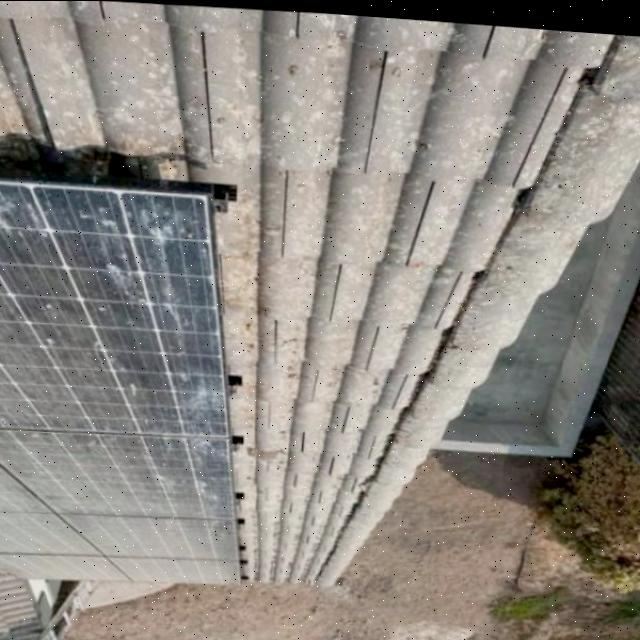Anomaly Solar Panel: (0, 182, 239, 580)
Surface Contaminant: (0, 184, 240, 580)
